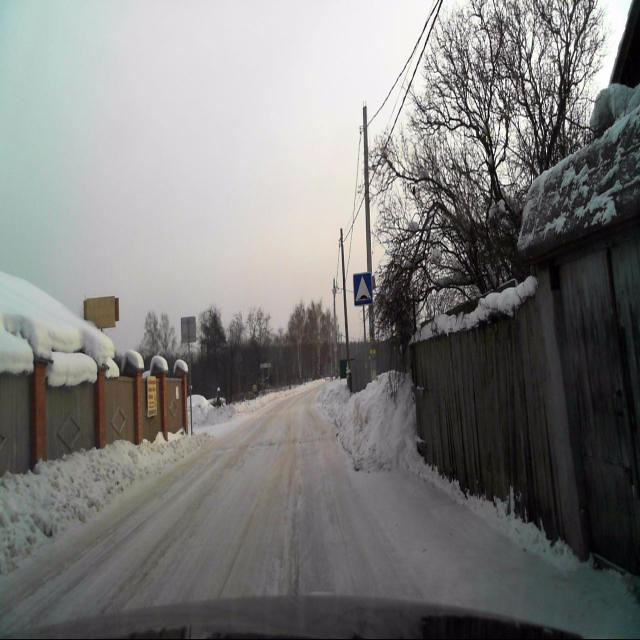road sign: (352, 272, 372, 306)
